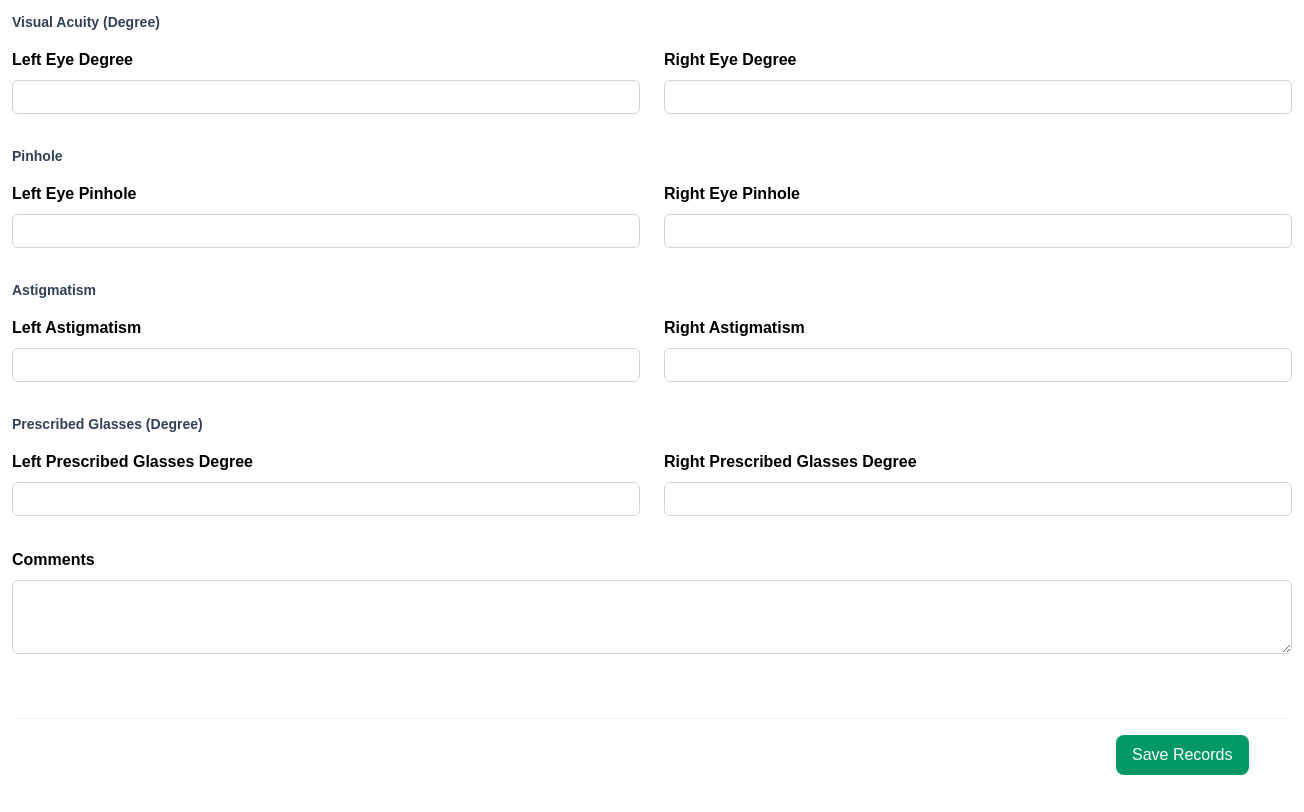
Test: EyesightForm › shows an error toast when nothing has changed
Note: the user clicks save without touching any field
Click the button "Save Records".
click(1182, 755)  # box [1116,735,1248,775]
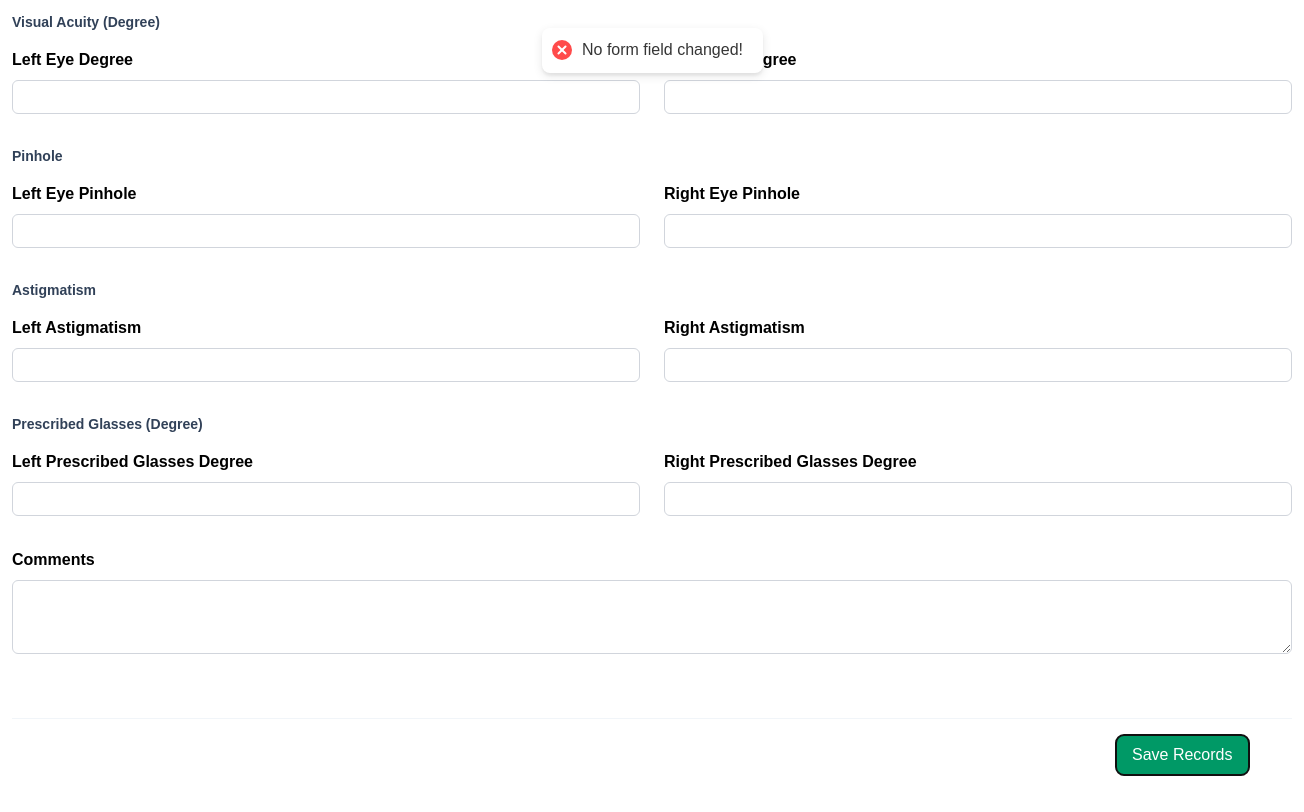
Now the message reads "No form field changed!", box [582,41,742,58]
